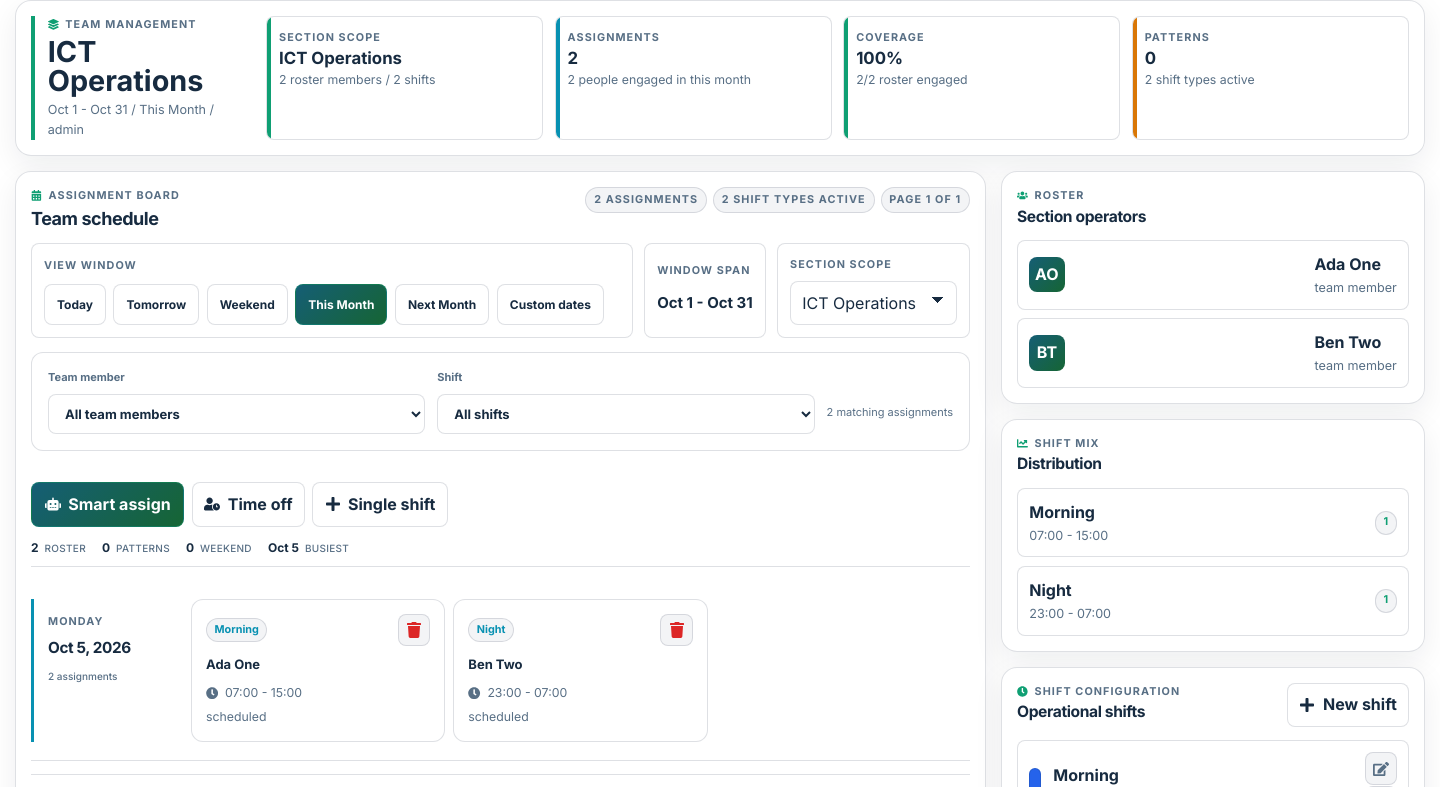
failed pattern requests offer retry rather than pretending no patterns exist
The image size is (1440, 787).
Click the button "Smart assign". click: (108, 504)
box: [31, 482, 184, 527]
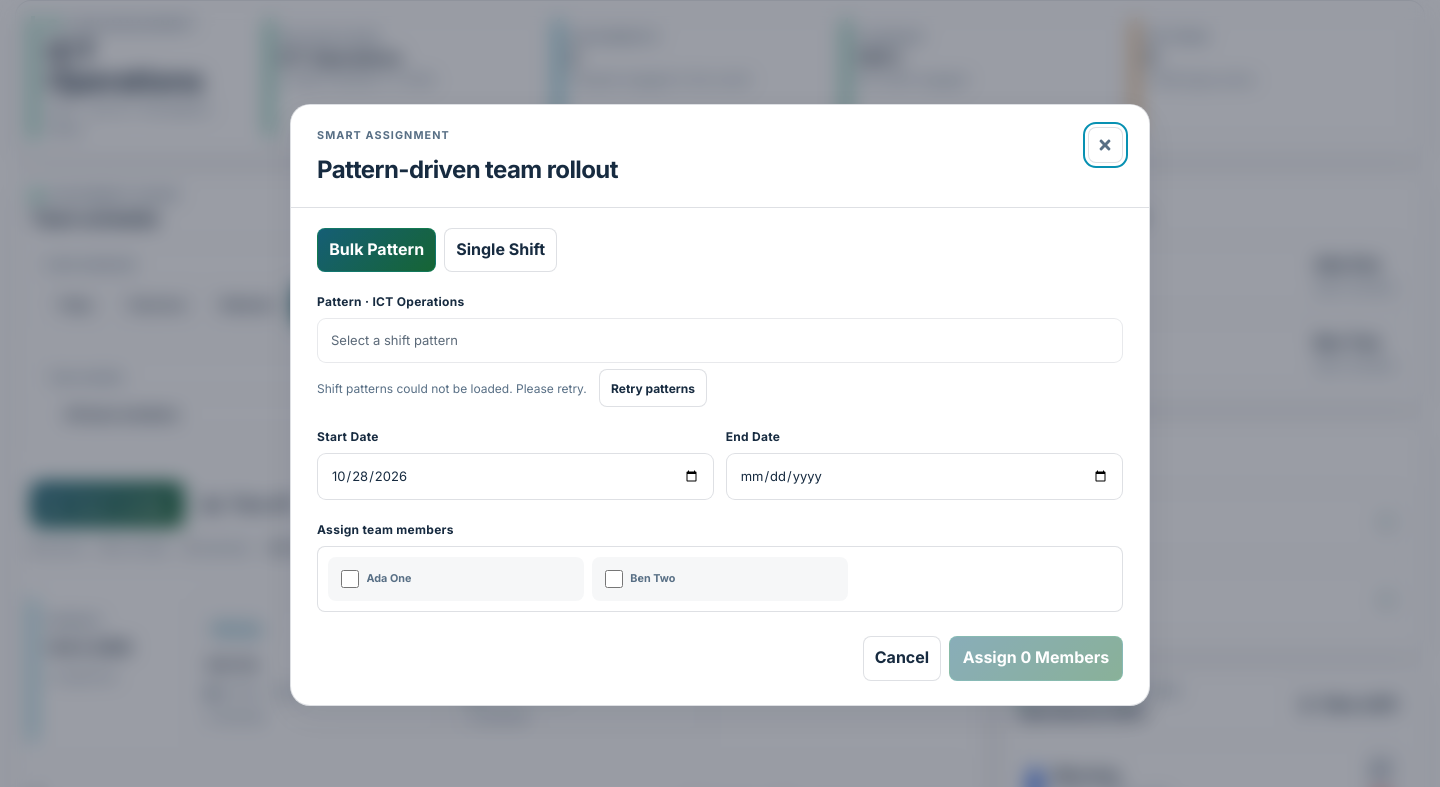
Now the message shows "could not be loaded", box [317, 380, 587, 396]
Click the button "Retry patterns". click: (653, 388)
box: [599, 369, 707, 407]
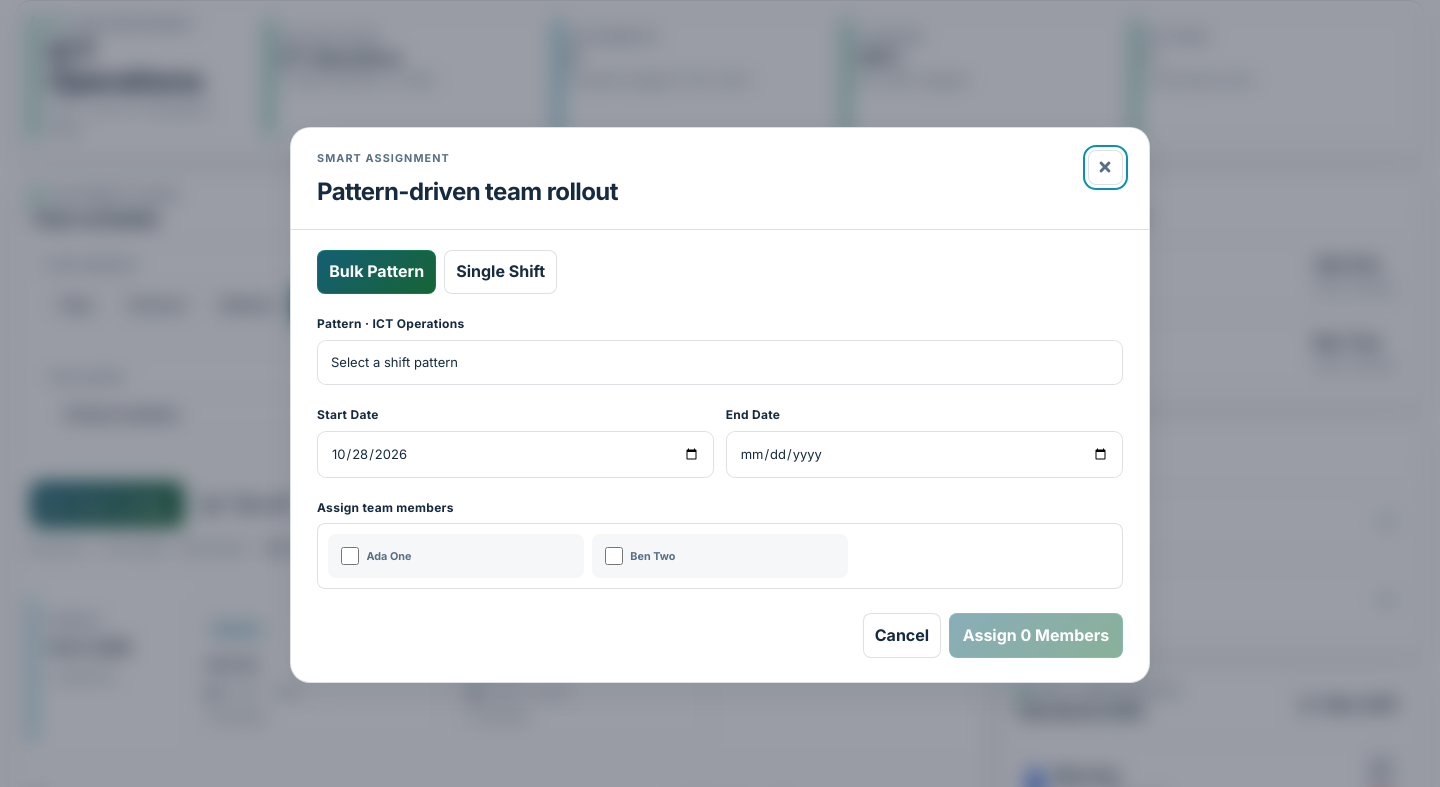
Now the dropdown is enabled, box [317, 340, 1123, 385]
Now the message "Shift patterns could not be loaded. Please retry. Retry patterns" is gone
